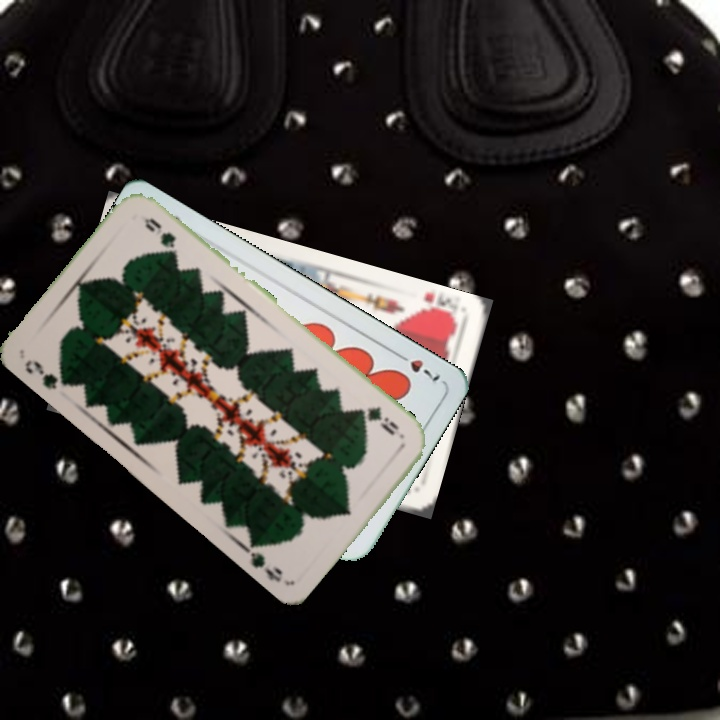G9: (355, 402, 407, 441), (20, 355, 72, 392)
H7: (391, 348, 443, 384)
HK: (410, 288, 460, 325)
